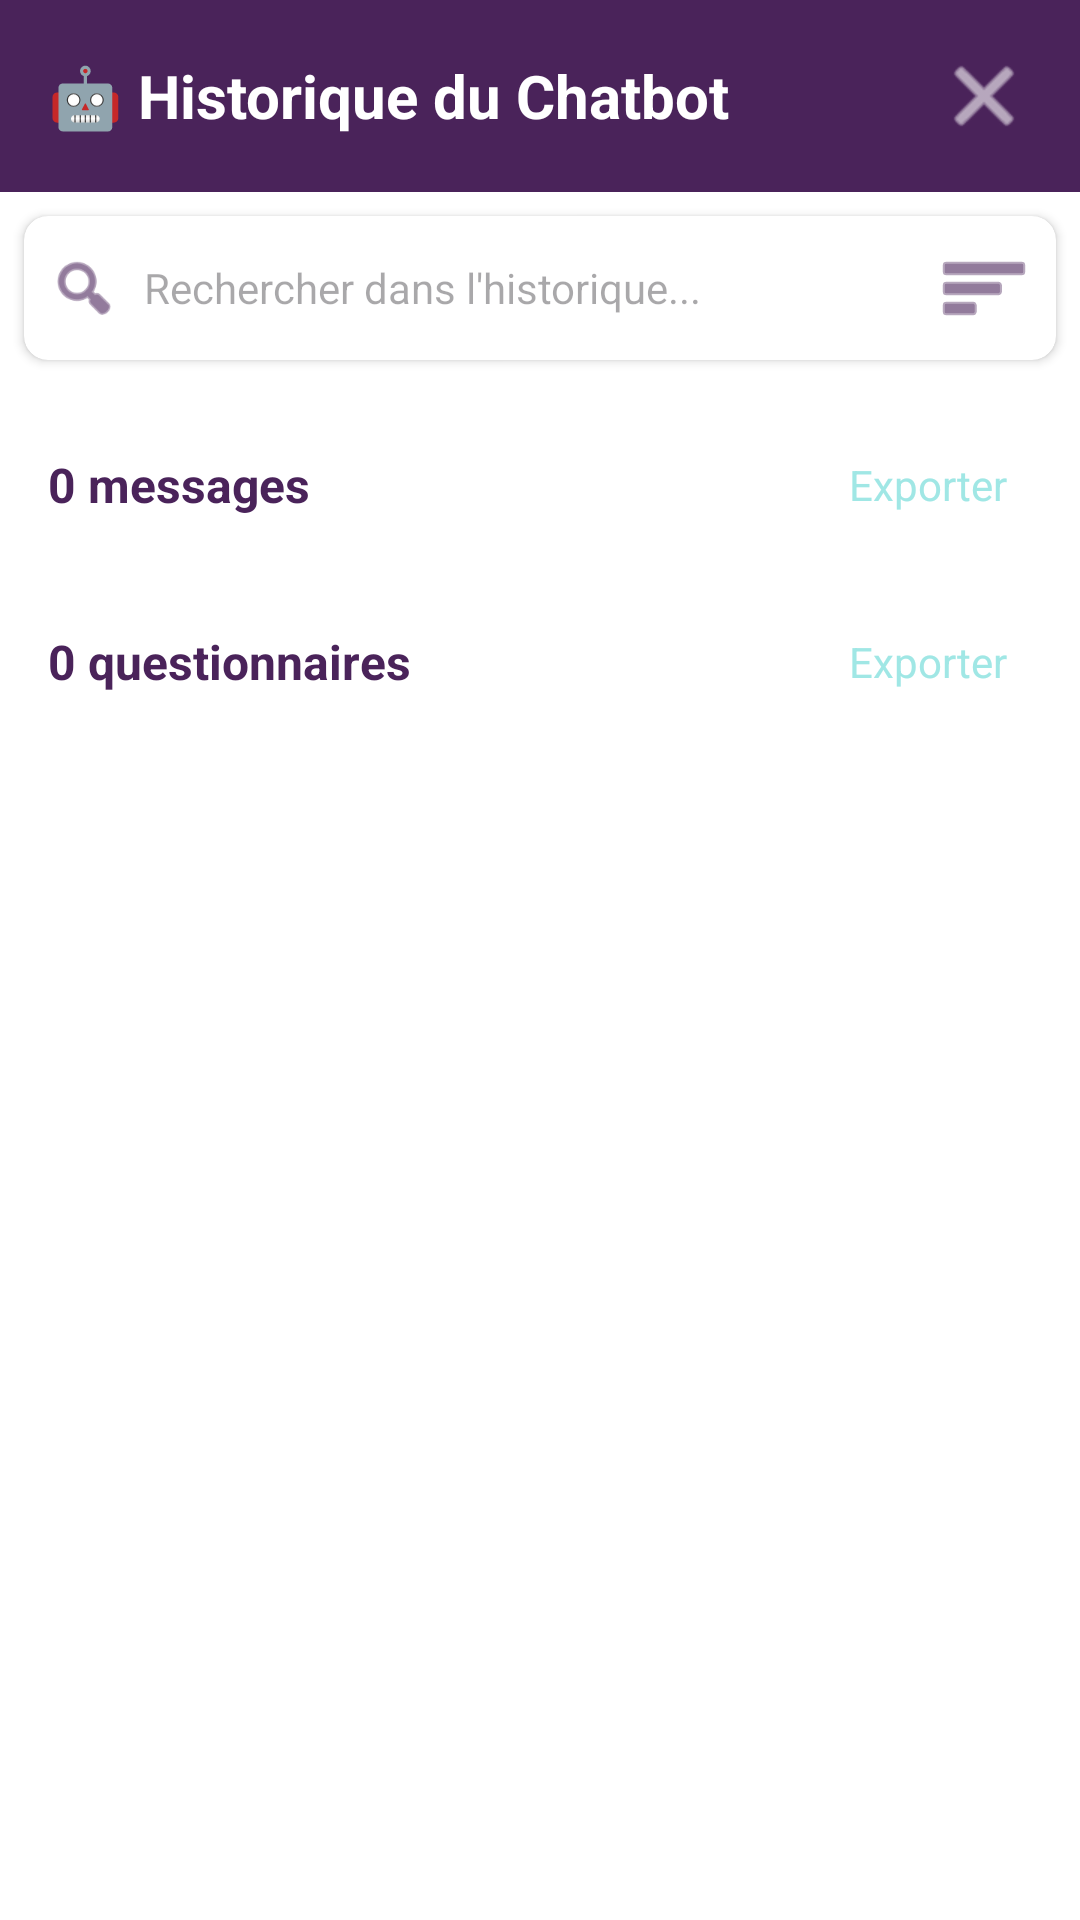

Screen size 1080w x 1920h. Icon name, then its box in pixels as (x1, y1, x2, y2):
Fermer: (954, 66, 1014, 126)
Filtrer: (943, 262, 1025, 315)
search: (57, 262, 111, 315)
